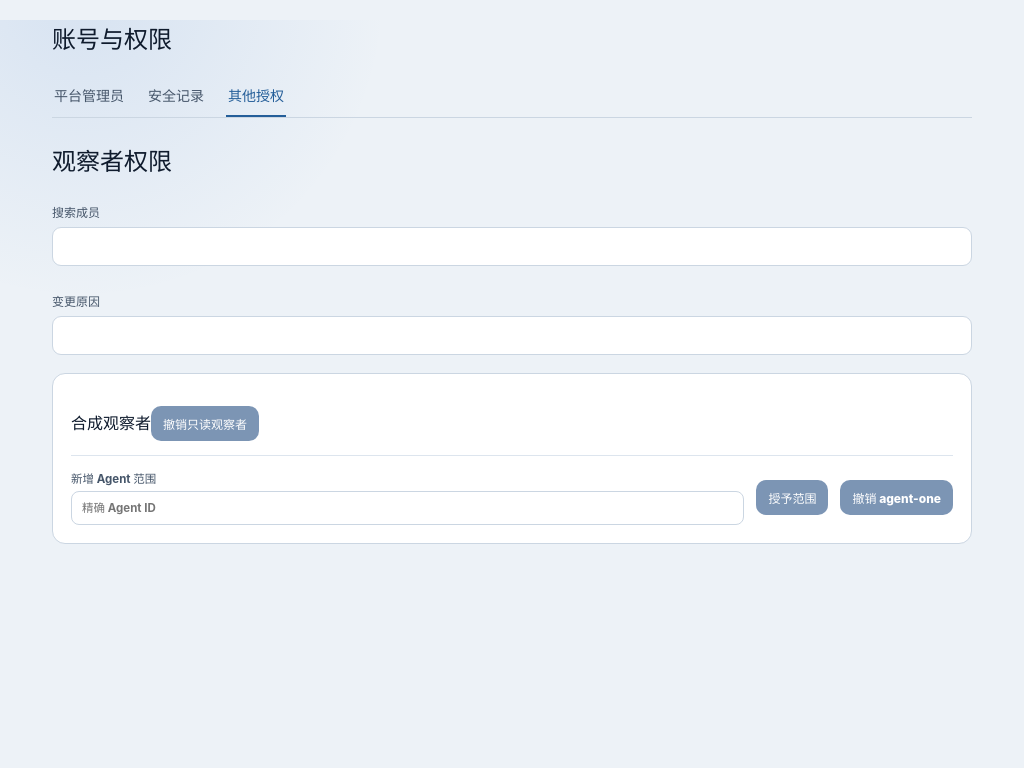
Test: preserves observer management on its secondary page
The image size is (1024, 768).
Expected: the heading "账号与权限" is shown, top-left (52, 25), bottom-right (172, 54)
Expected: the button "撤销只读观察者" is disabled, top-left (151, 406), bottom-right (259, 441)
Type "批准" into the field named "变更原因" at (512, 335), box top-left (52, 316), bottom-right (972, 355)
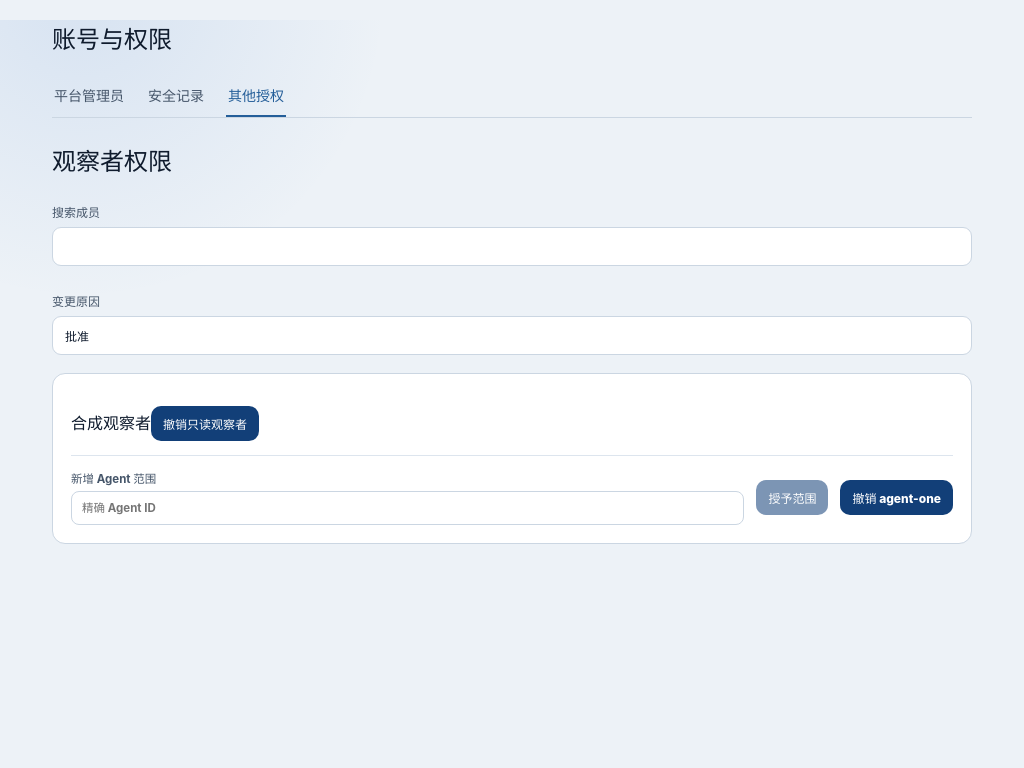
Expected: the button "撤销只读观察者" is enabled, top-left (151, 406), bottom-right (259, 441)
